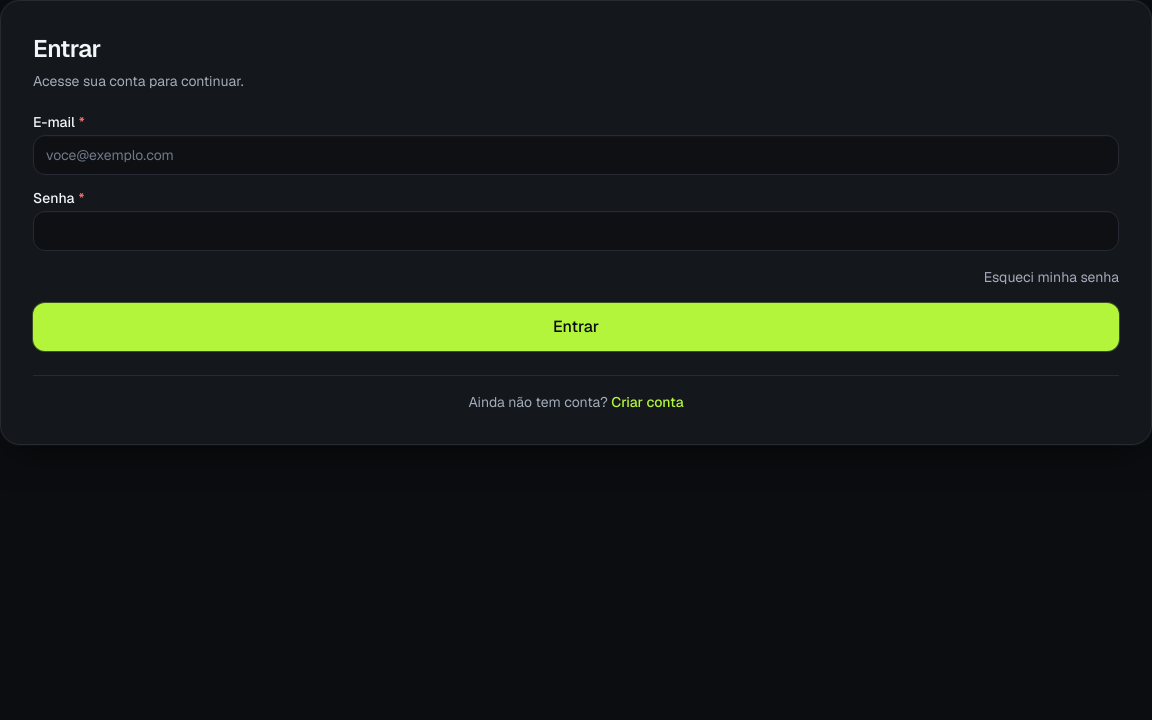
Test: LoginForm submit › after a successful login stays on the page with an explanation when the hand-off would bounce
Expected: the button "Entrar" is enabled, left=33, top=303, right=1119, bottom=351
Step 1. Type "ana@exemplo.com" into the field labelled "E-mail *" → (576, 155), box left=33, top=135, right=1119, bottom=175
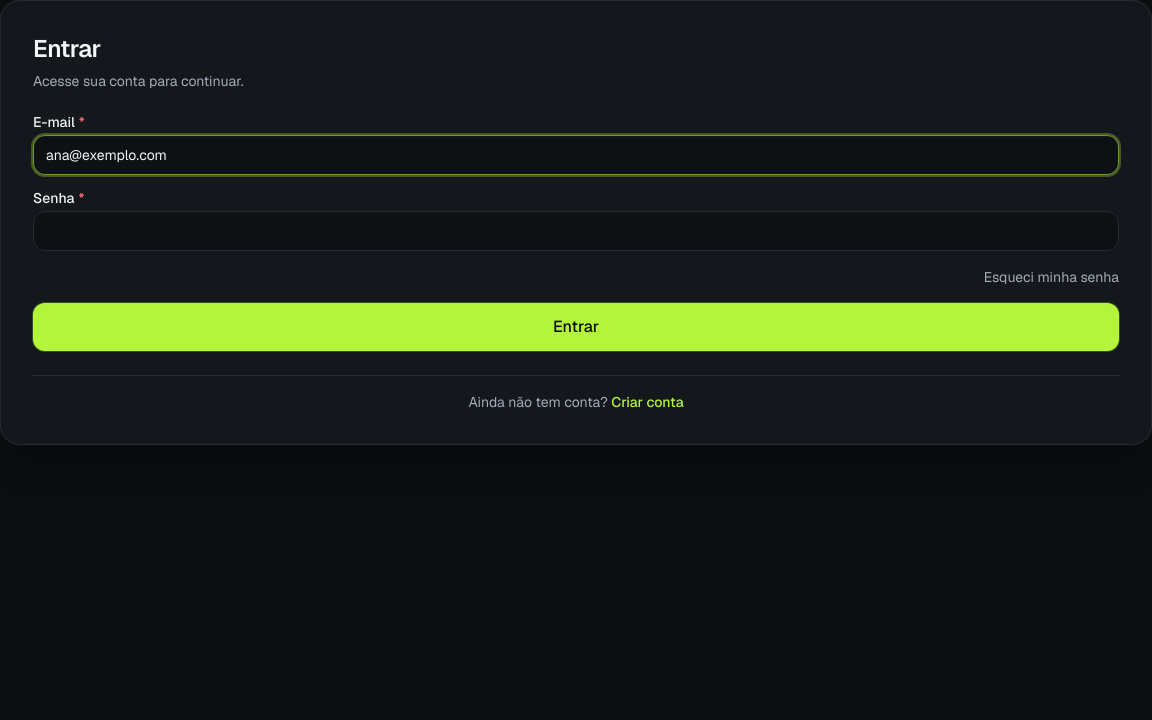
Step 2. Type "segredo123" into the password field labelled "Senha *" → (576, 231), box left=33, top=211, right=1119, bottom=251
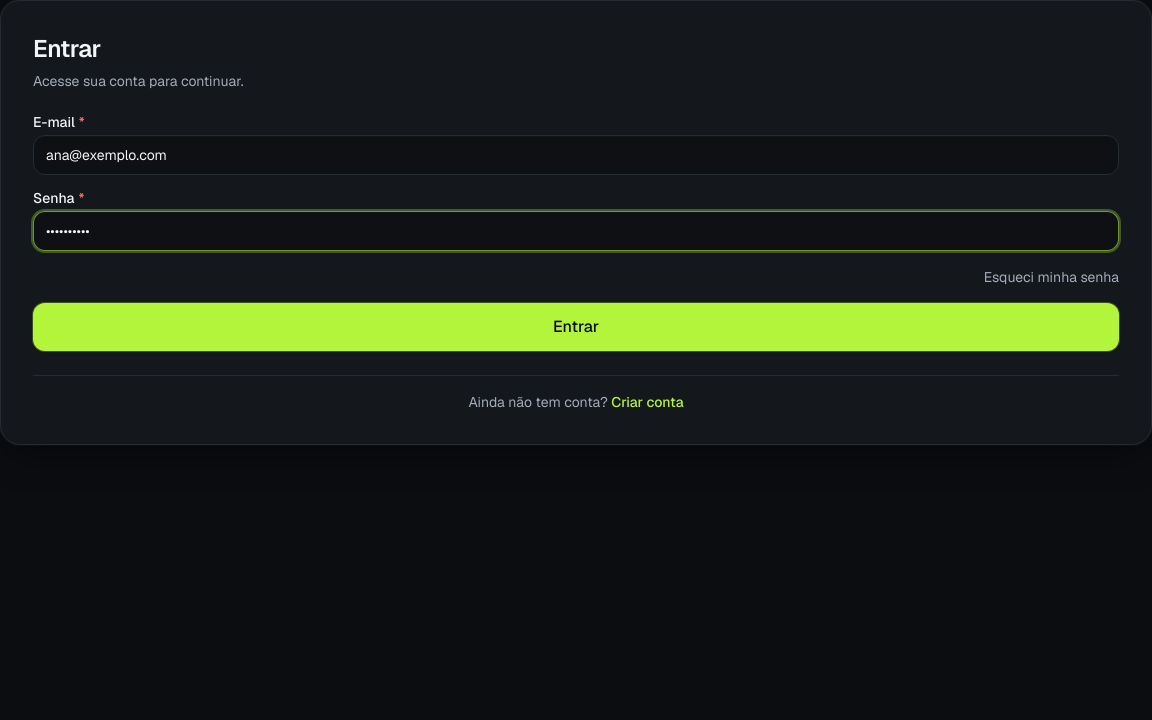
Step 3. Click the button "Entrar" → (576, 327), box left=33, top=303, right=1119, bottom=351
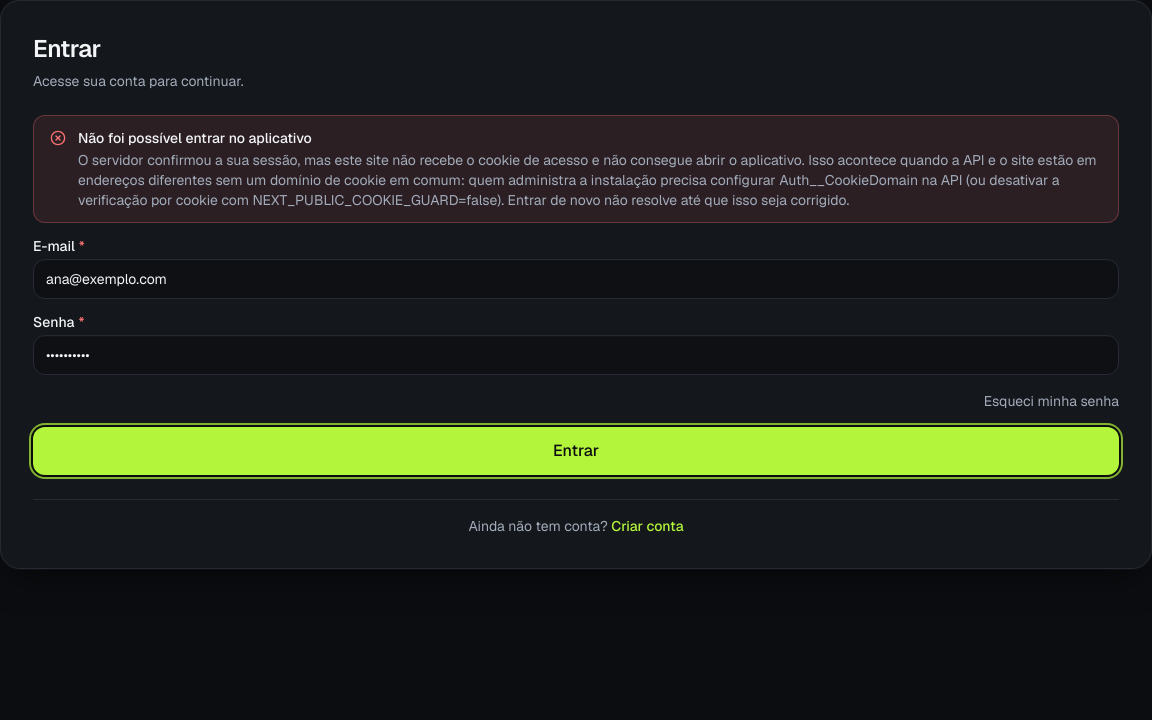
Expected: the text "Não foi possível entrar no aplicativo" is shown, left=78, top=129, right=312, bottom=147
